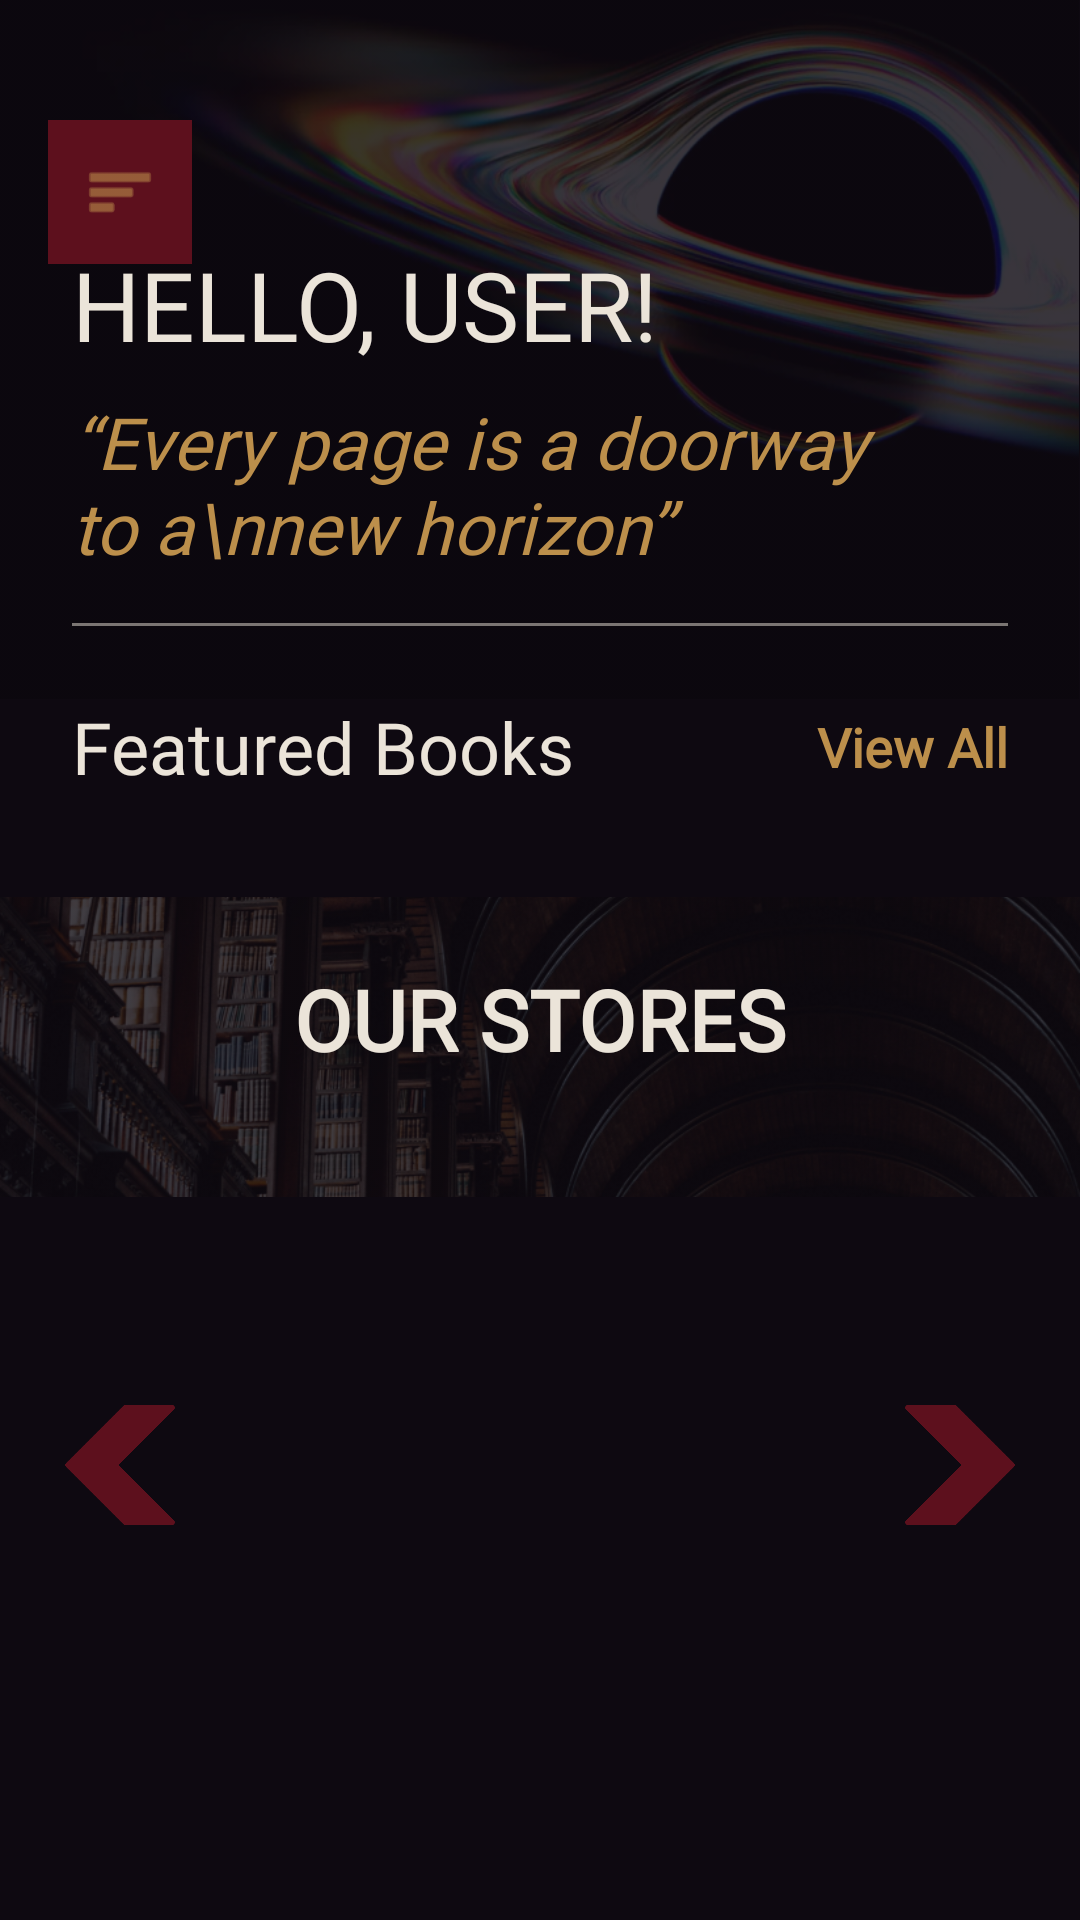

Named icons in this screenshot (1080 x 1920) and their bounding boxes, Rect(x1, y1, x2, y2):
Next store: Rect(905, 1405, 1015, 1525)
